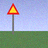sign: (7, 3, 19, 34)
